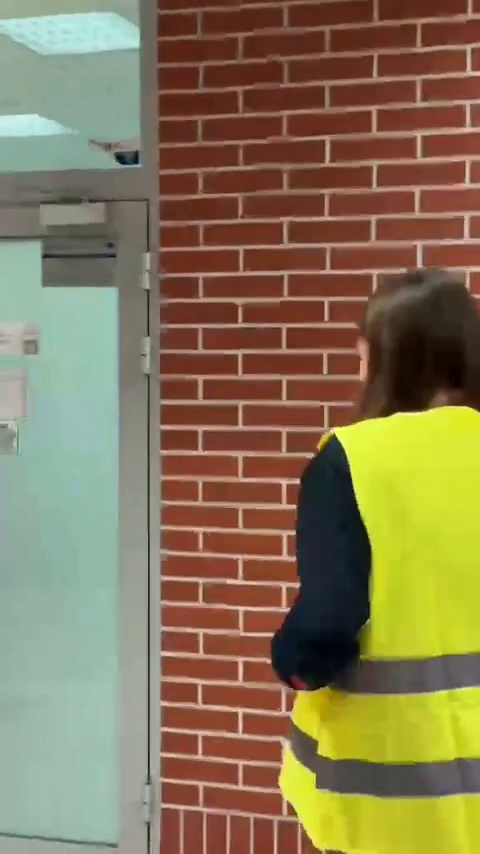vest: (268, 270, 478, 844)
